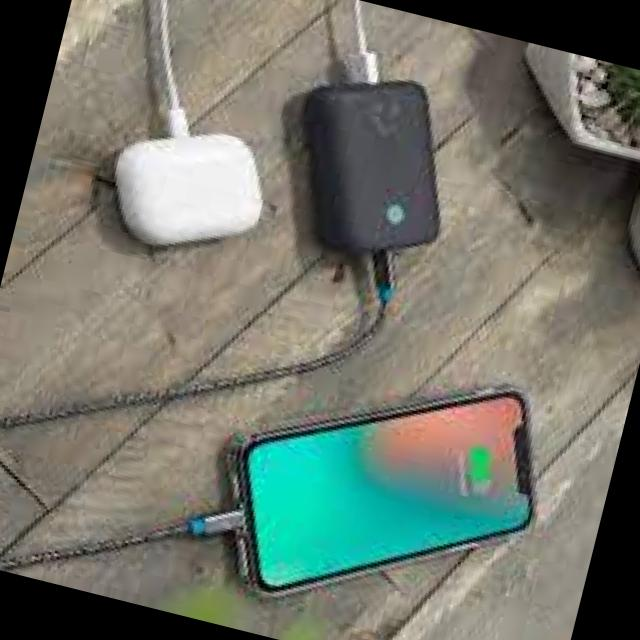power_bank: (268, 51, 482, 278)
